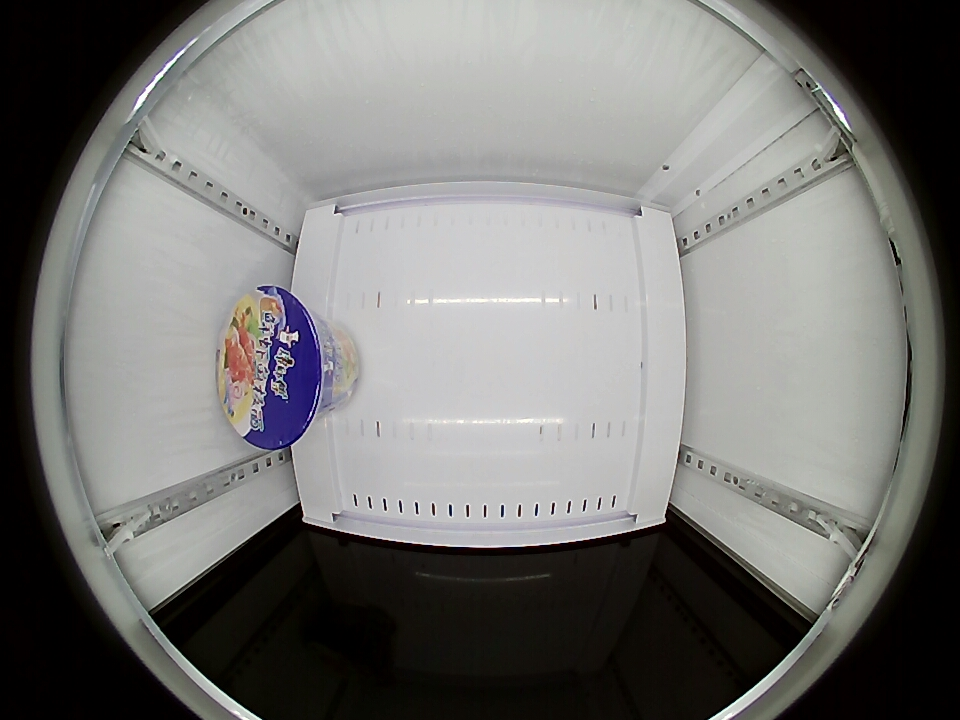xianxiayuban: (218, 286, 335, 450)
